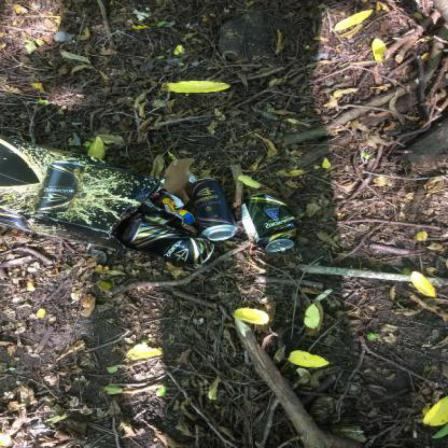Can: (124, 220, 216, 267), (243, 194, 298, 254), (192, 179, 239, 242), (126, 200, 173, 227)
Carton: (1, 137, 196, 254)
Plastic bag - wrapper: (164, 199, 202, 237), (150, 193, 185, 213)
Pop tab: (276, 245, 288, 252)
